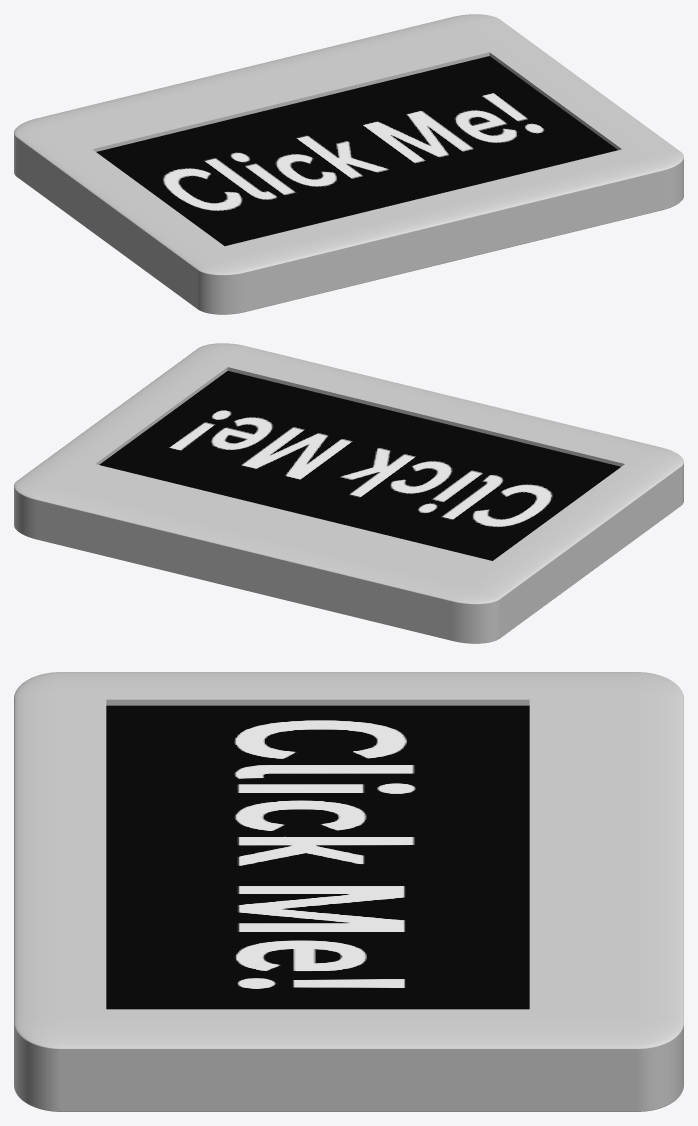
File: BaseButton.glb
3 views of the same model, one above another, from view 1: azimuth 30°, elevation 25°; view 2: azimuth 150°, elevation 25°; view 3: azimuth 270°, elevation 25° (orthographic). The views are drawn at different scales.
Visible parts, largest first — view 1: Cube; view 2: Cube; view 3: Cube.
Boxes of the visible parts, x1=… form: Cube: x1=14, y1=14, x2=683, y2=314; Cube: x1=14, y1=343, x2=683, y2=643; Cube: x1=14, y1=672, x2=683, y2=1111.
Bounding box in the file's own units: 3.91 × 0.3511 × 2.94.
2 materials, 1 textured.
